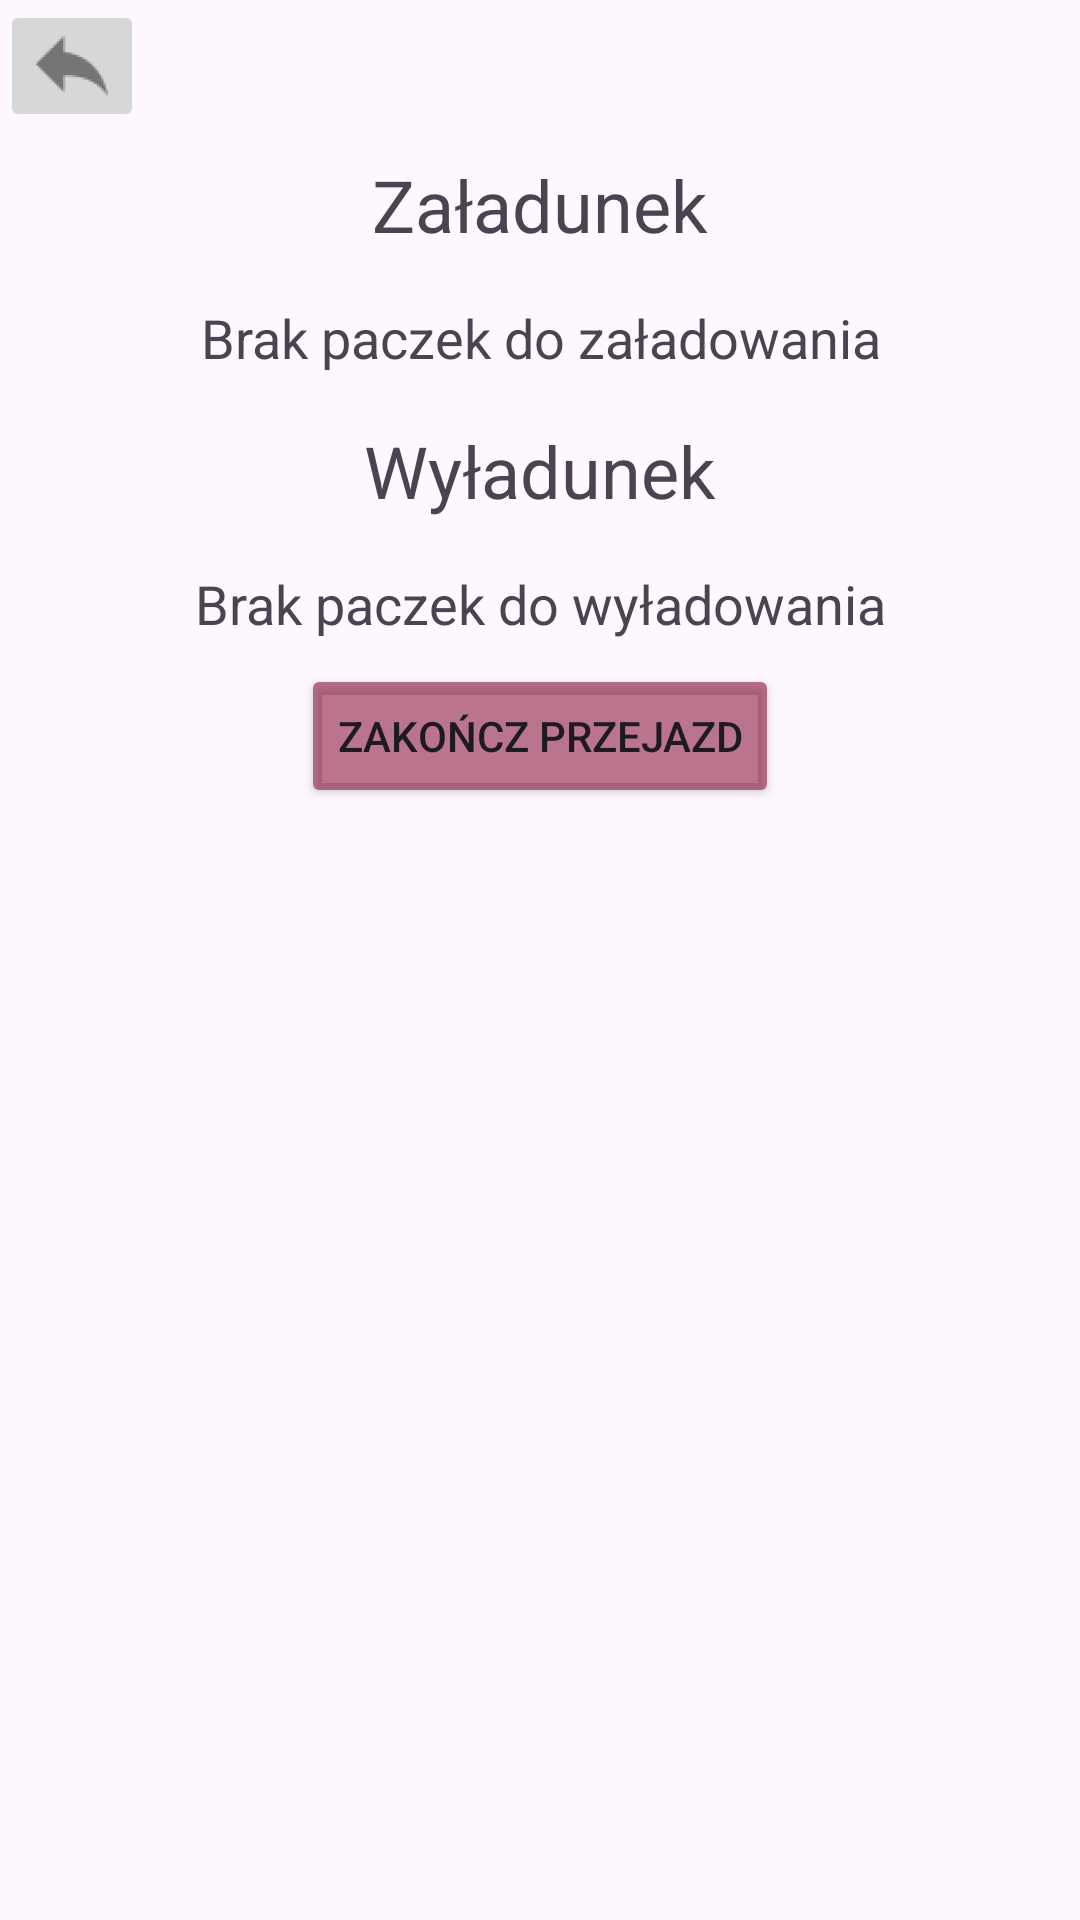

Named icons in this screenshot (1080*1920) and their bounding boxes, (x1, y1, x2, y2):
Strzałka: (12, 18, 132, 114)
